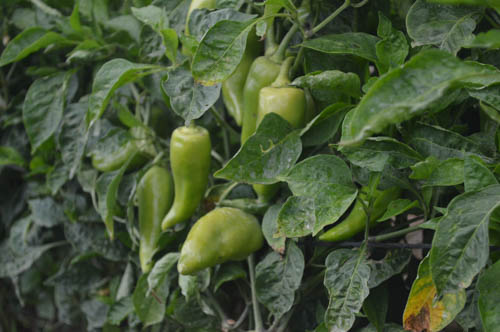ChiliPepper: (174, 210, 264, 269), (258, 86, 303, 198), (319, 180, 400, 239), (161, 129, 211, 224), (243, 58, 284, 171), (136, 168, 170, 272), (227, 39, 256, 123)
